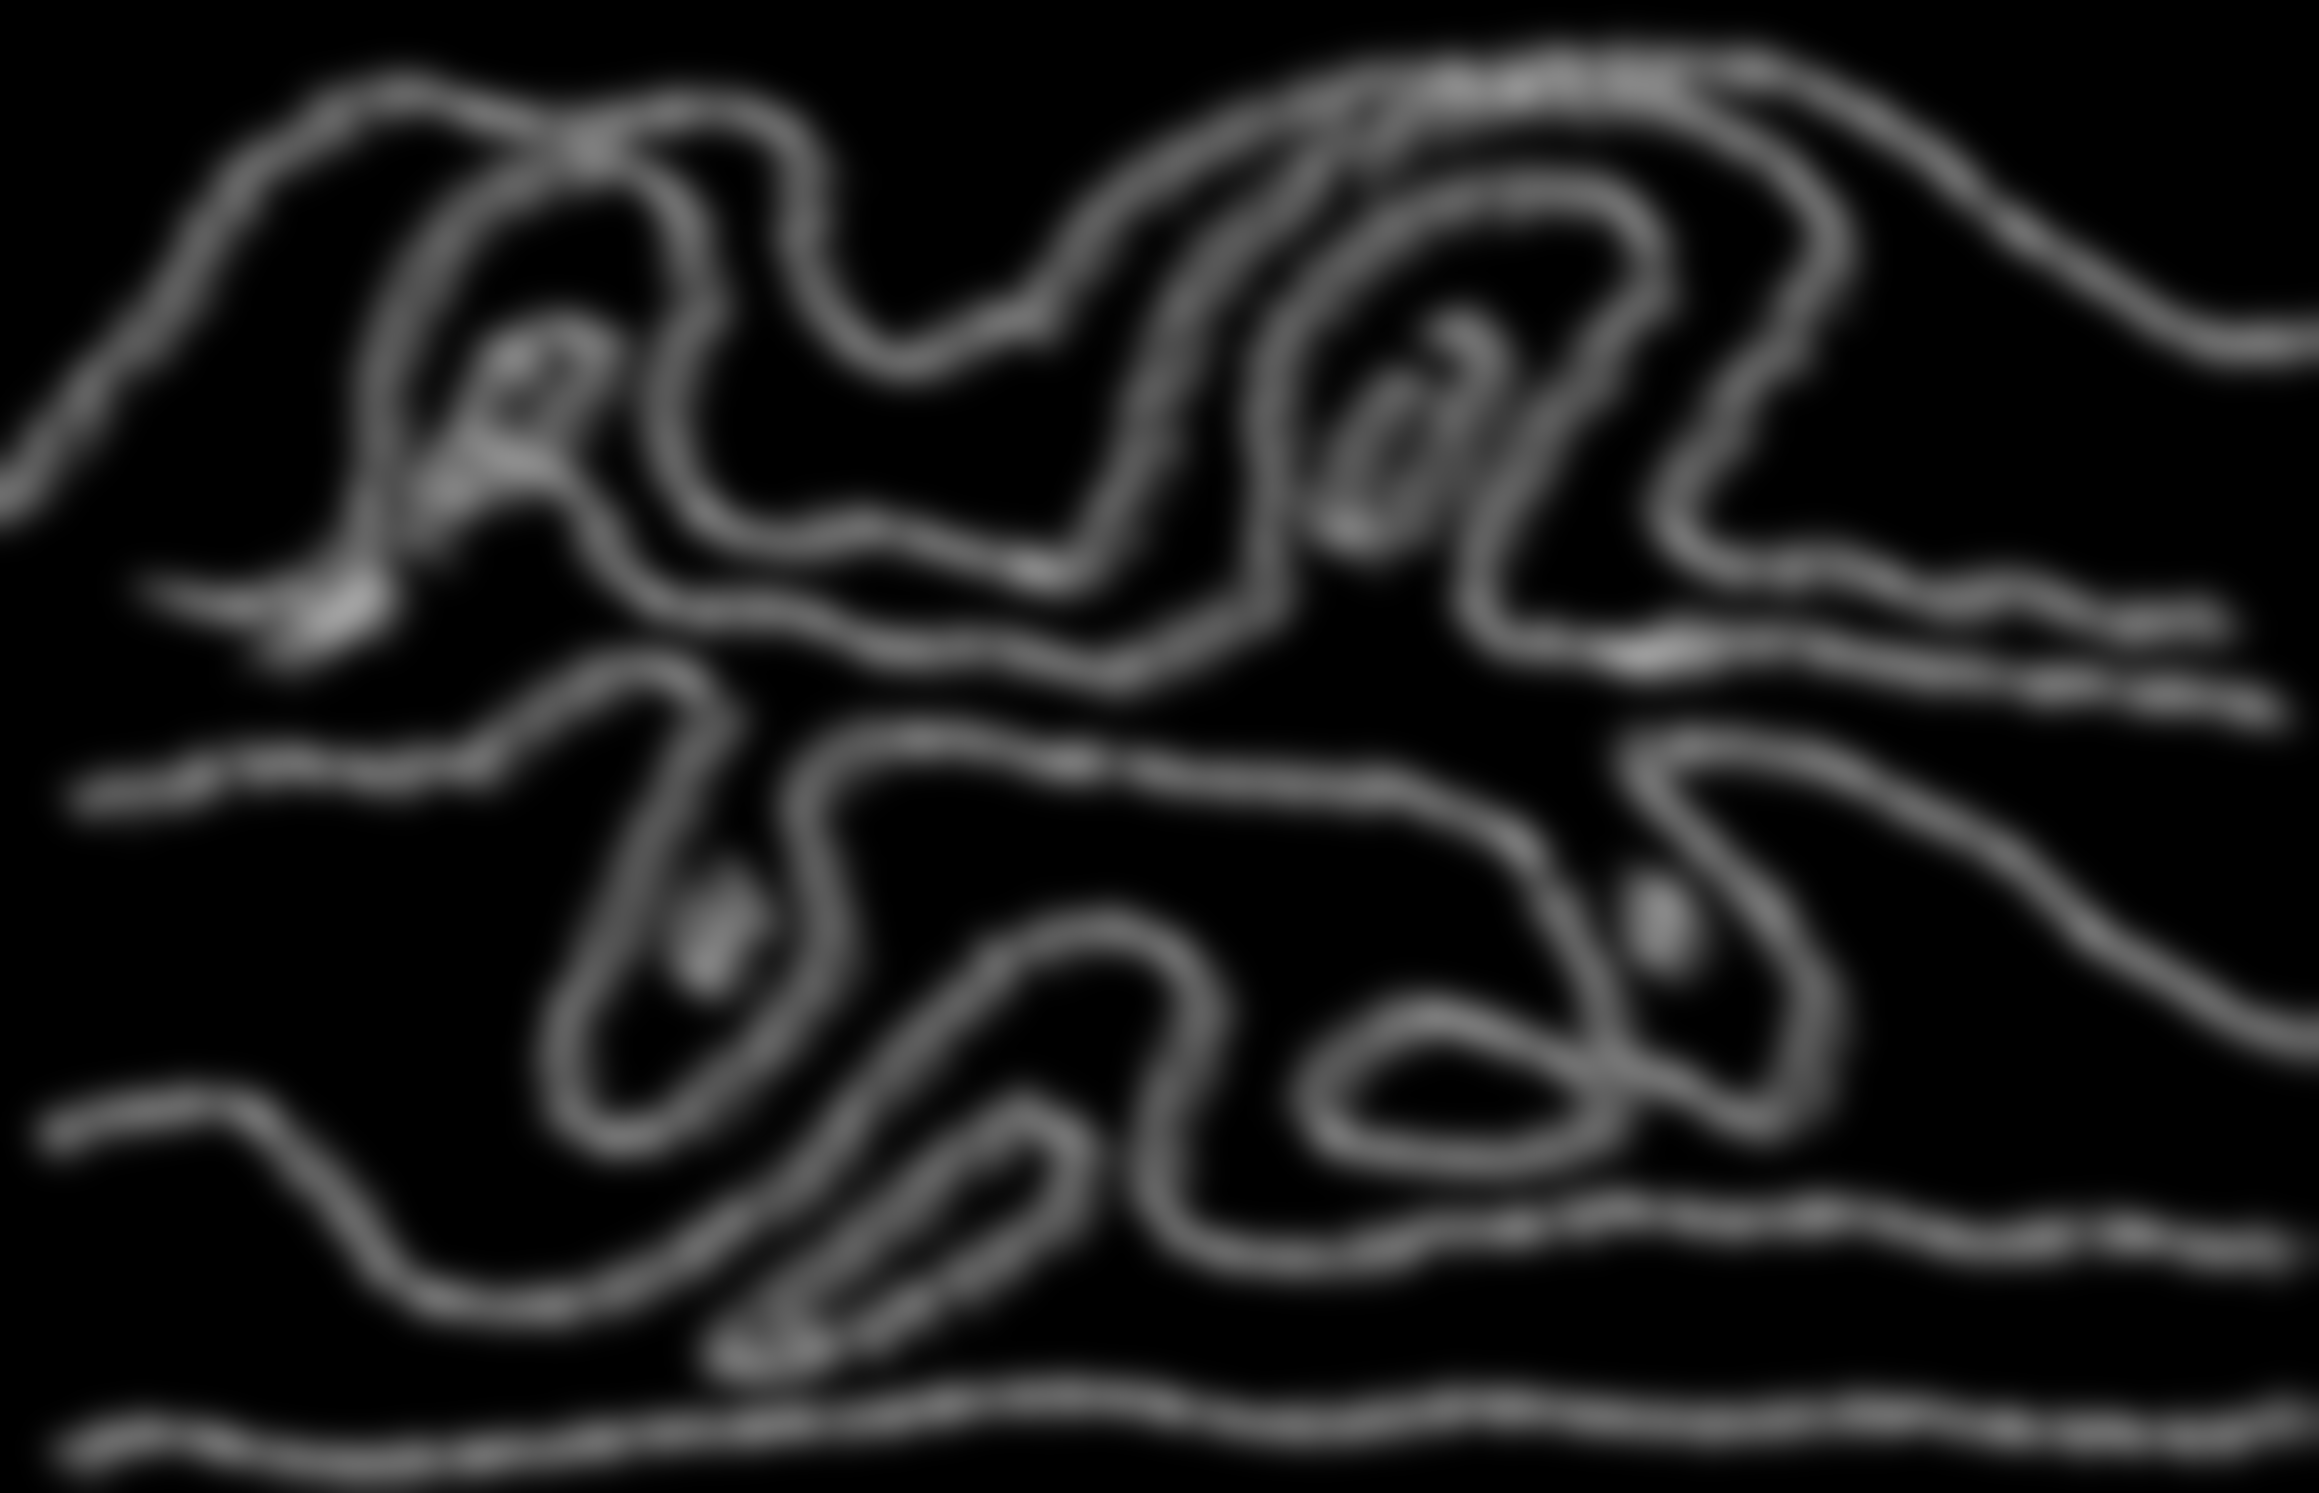turbulence: (14, 19, 2299, 1463)
